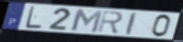0: (151, 14, 173, 38)
2: (48, 7, 74, 31)
I: (125, 11, 138, 36)
L: (24, 5, 43, 29)
M: (71, 8, 105, 34)
R: (96, 10, 125, 35)
